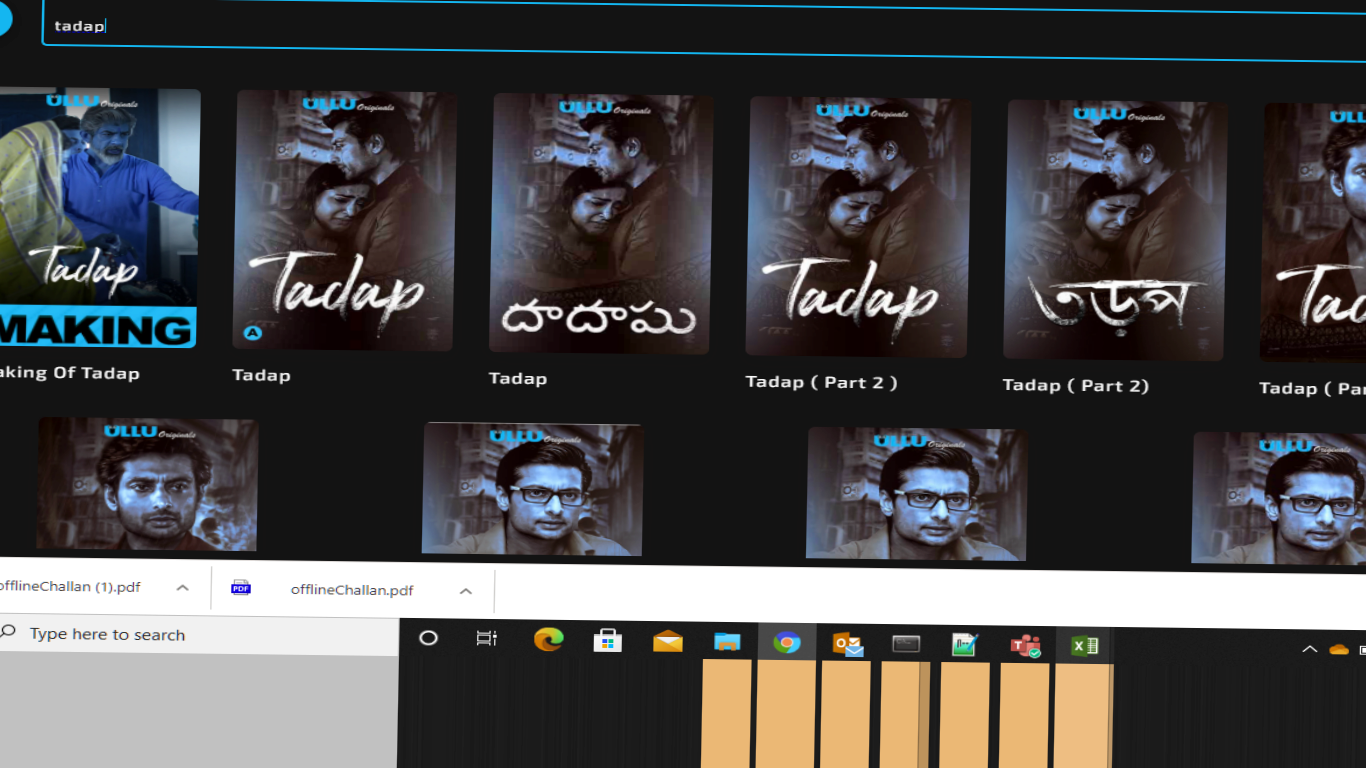searchtextbox: (42, 4, 1365, 79)
